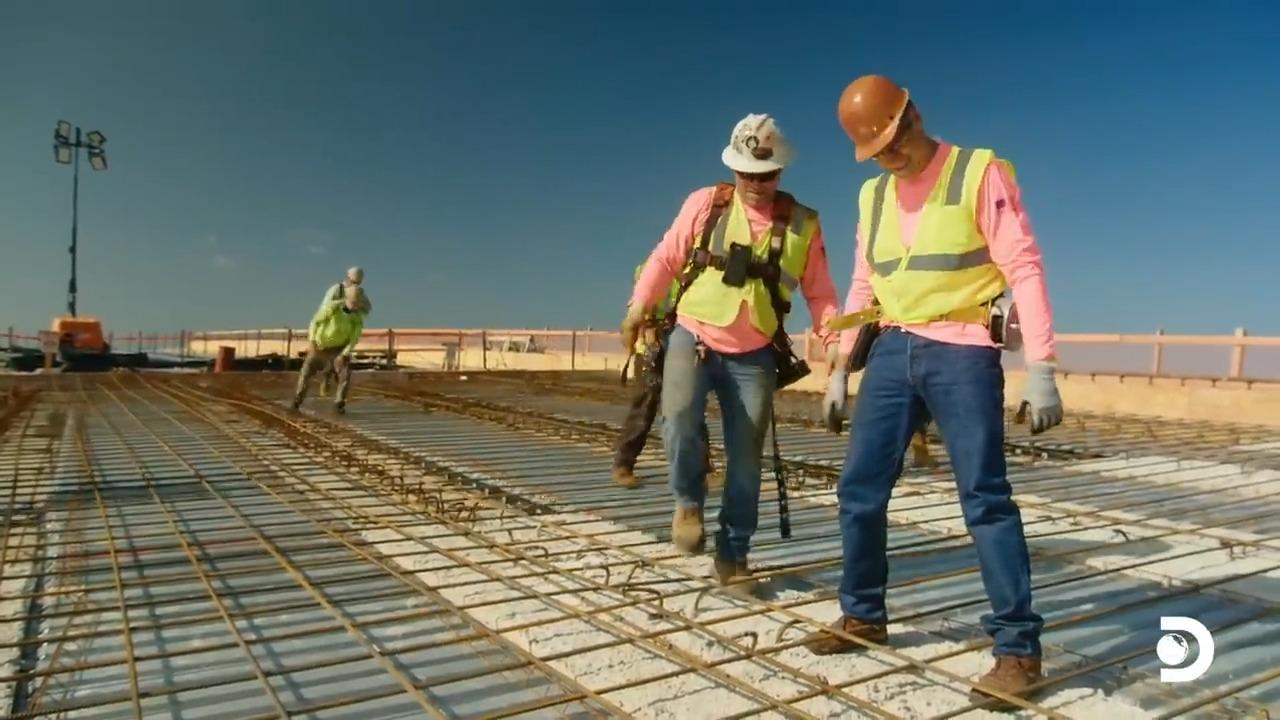Gloves: (1018, 363, 1070, 438), (815, 377, 854, 441)
Helmet: (837, 73, 909, 162), (721, 112, 790, 174), (337, 283, 372, 308)
Person: (804, 73, 1063, 701), (619, 112, 842, 595), (290, 265, 371, 414)
Safety Boot: (961, 667, 1042, 708), (801, 619, 888, 656), (668, 499, 710, 559), (722, 550, 765, 602), (614, 467, 635, 486), (289, 400, 306, 416), (332, 402, 350, 417)
Safety Vest: (865, 189, 997, 333), (696, 211, 805, 352)
bare-arms: (612, 324, 649, 363), (821, 344, 846, 376)
